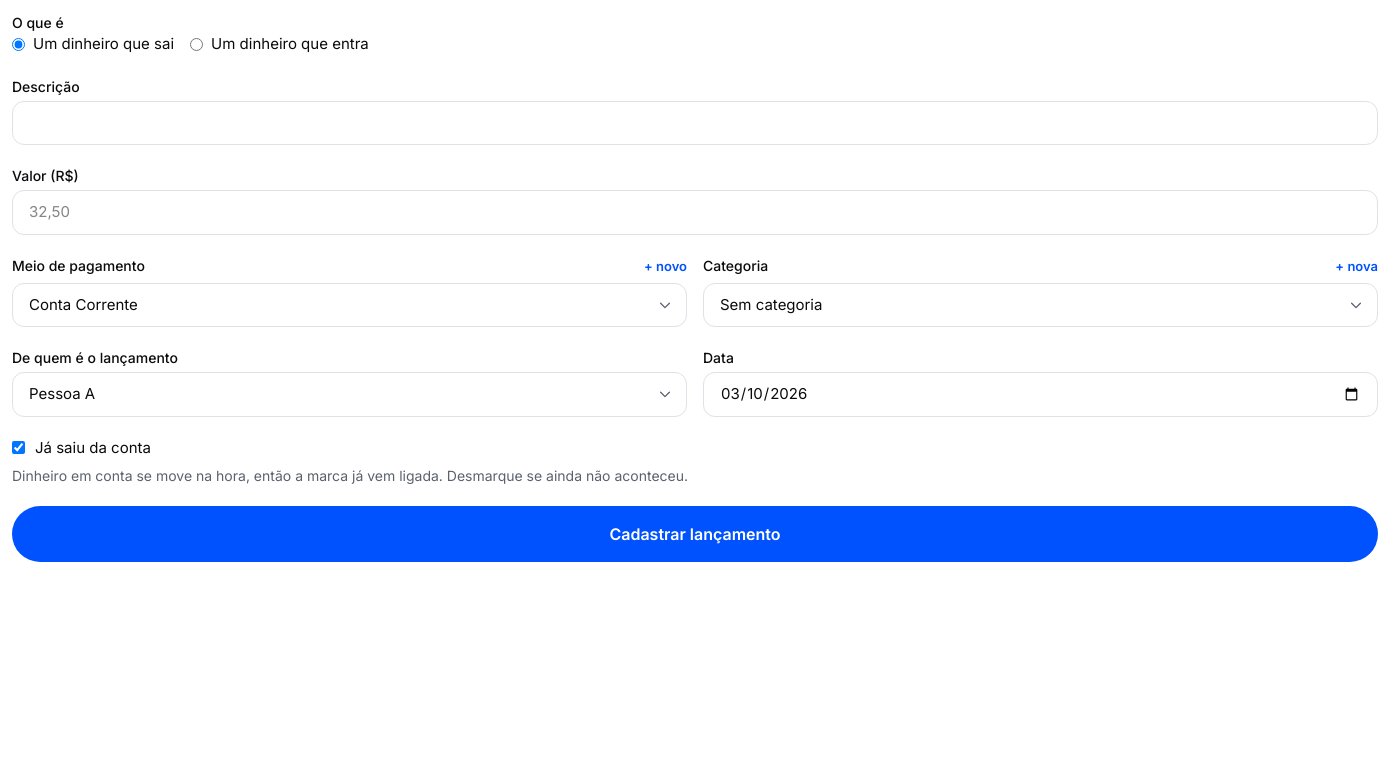
it: FormLancamentoAvulso — o padrão da caixa vem do meio (AVUL-02, AC 4 e 5) › desmarca sozinha ao escolher um cartão
The width and height of the screenshot is (1390, 780).
Select "Cartão Roxo" in the dropdown labelled "Meio de pagamento" at (350, 305), box [12,282,687,327]
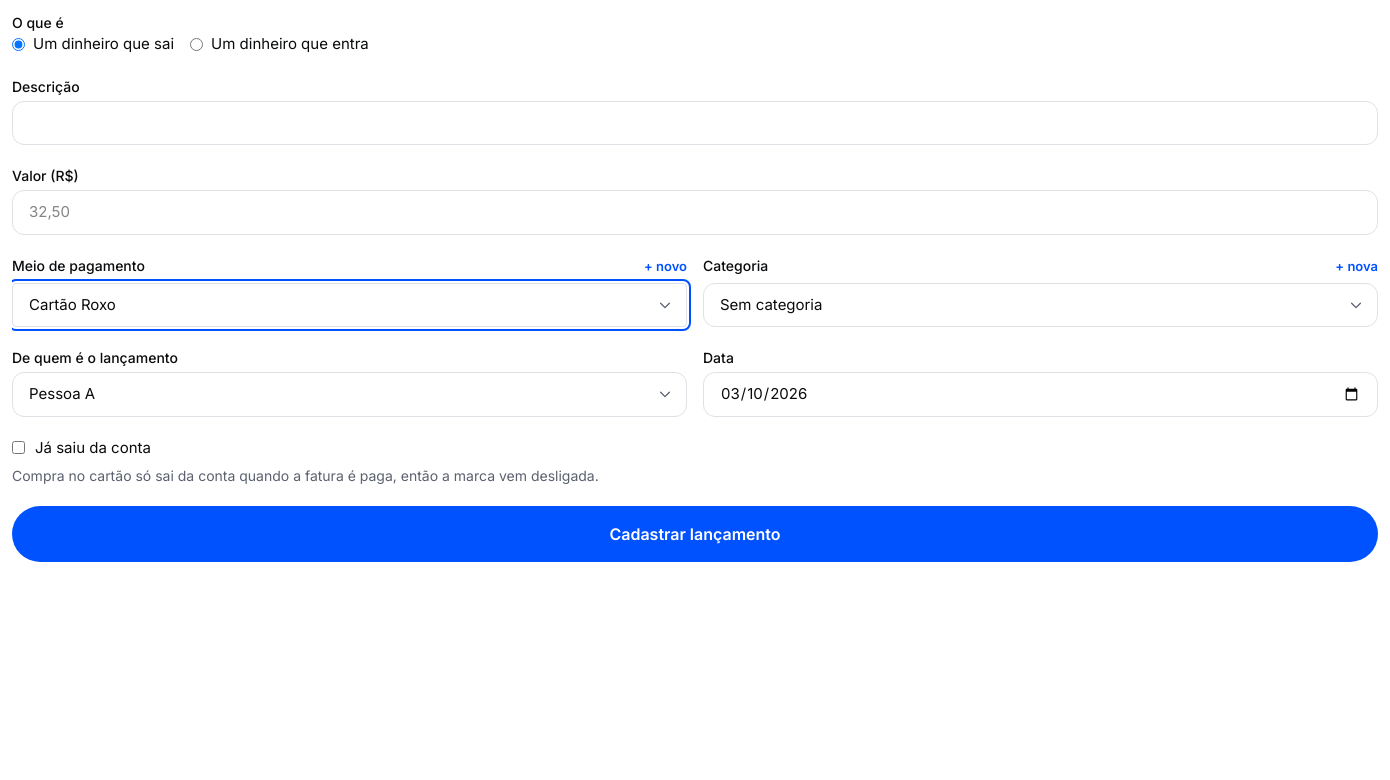
Expected: the checkbox is not checked, [12,441,25,454]
